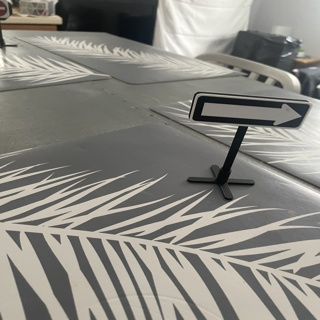sign_oneway_right: (194, 91, 314, 135)
